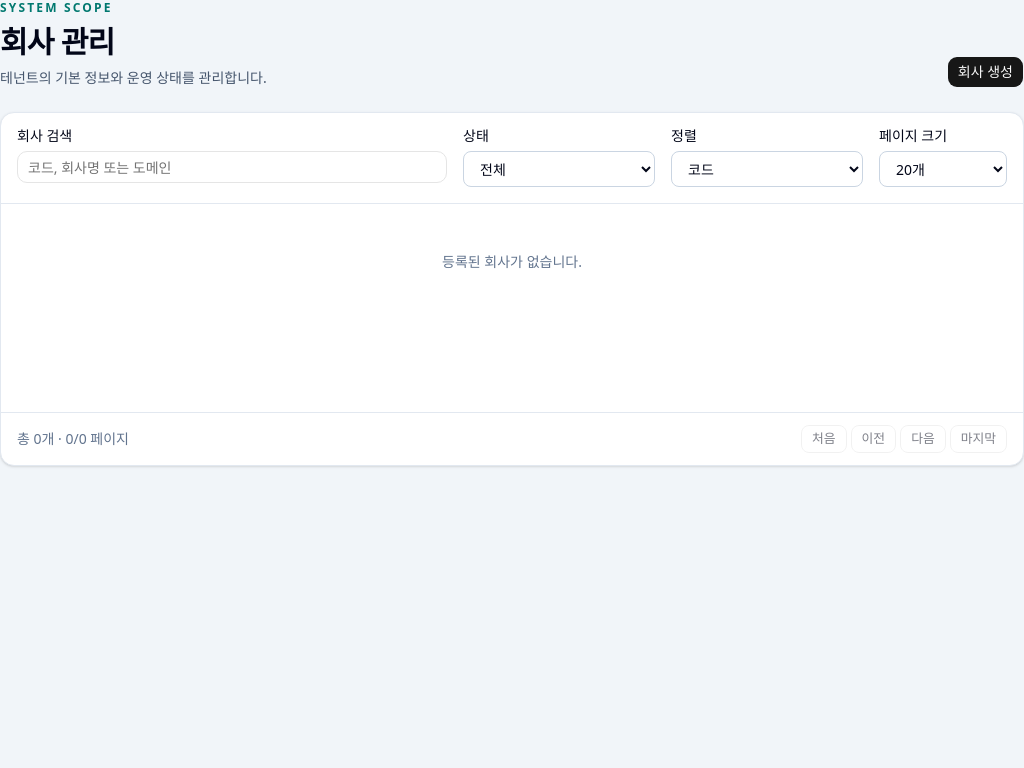
CompanyPage › focuses a 409 field error and exposes its trace id
The width and height of the screenshot is (1024, 768).
Expected: the text "등록된 회사가 없습니다." is shown, [442,252,582,271]
Click the button "회사 생성". click: x=985, y=72
box: [947,56,1023,88]
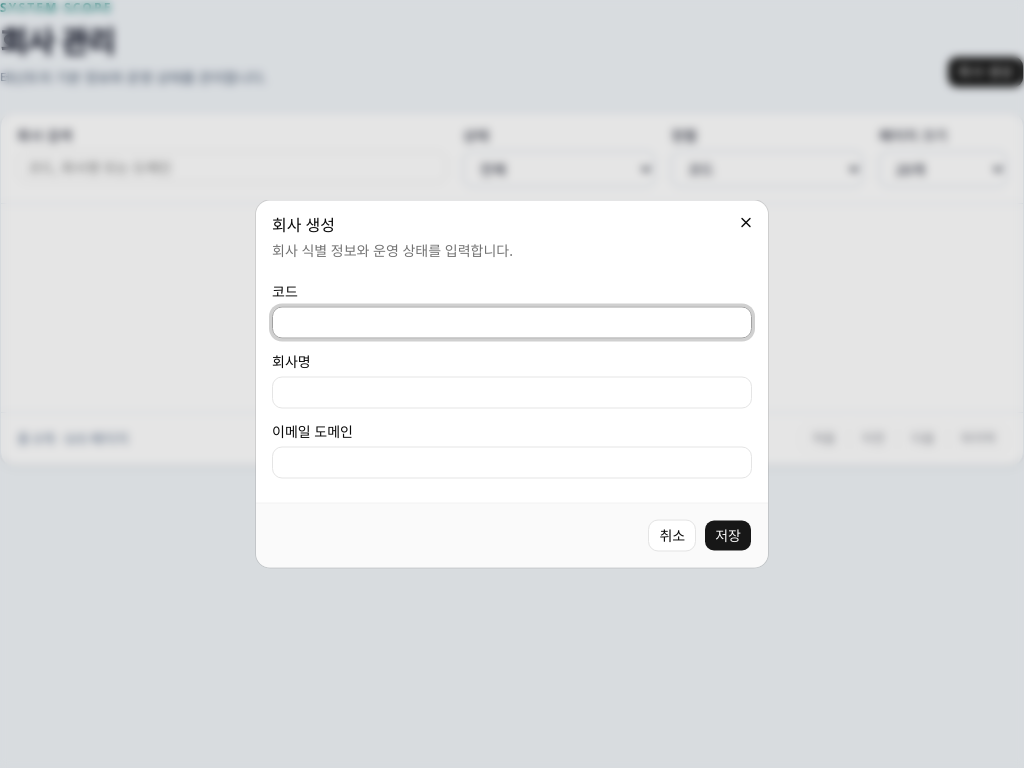
Type "ACME" into the field labelled "코드". click: x=512, y=322
box: [272,306,752,338]
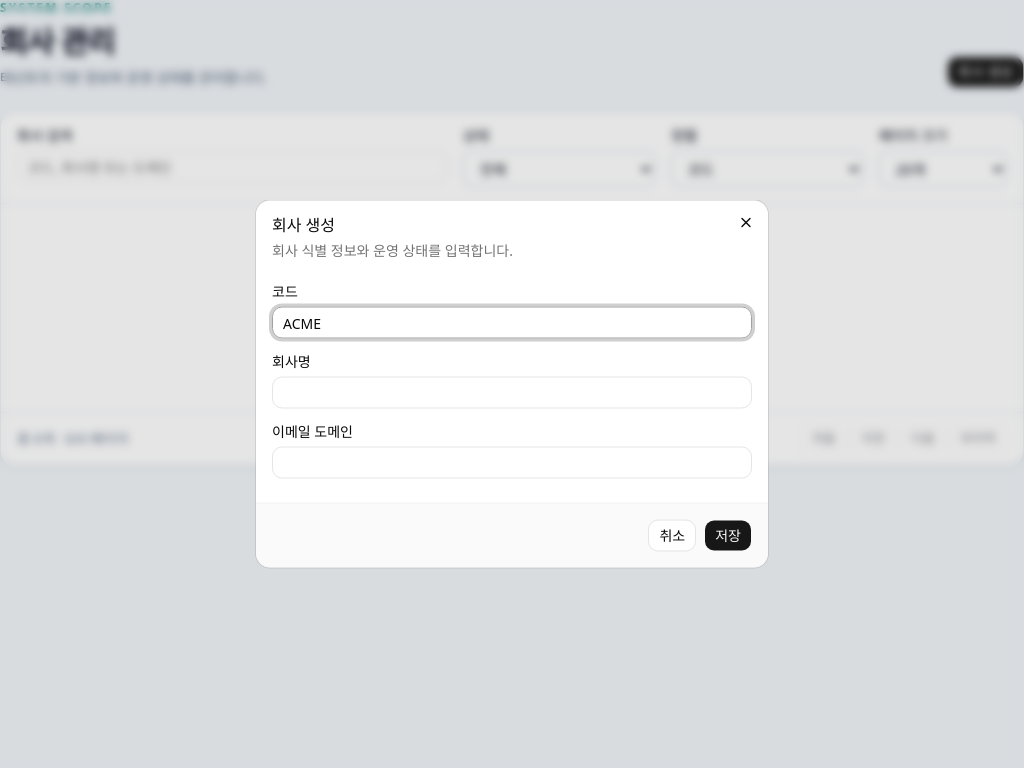
Type "Acme" into the field labelled "회사명". click: x=512, y=392
box: [272,376,752,408]
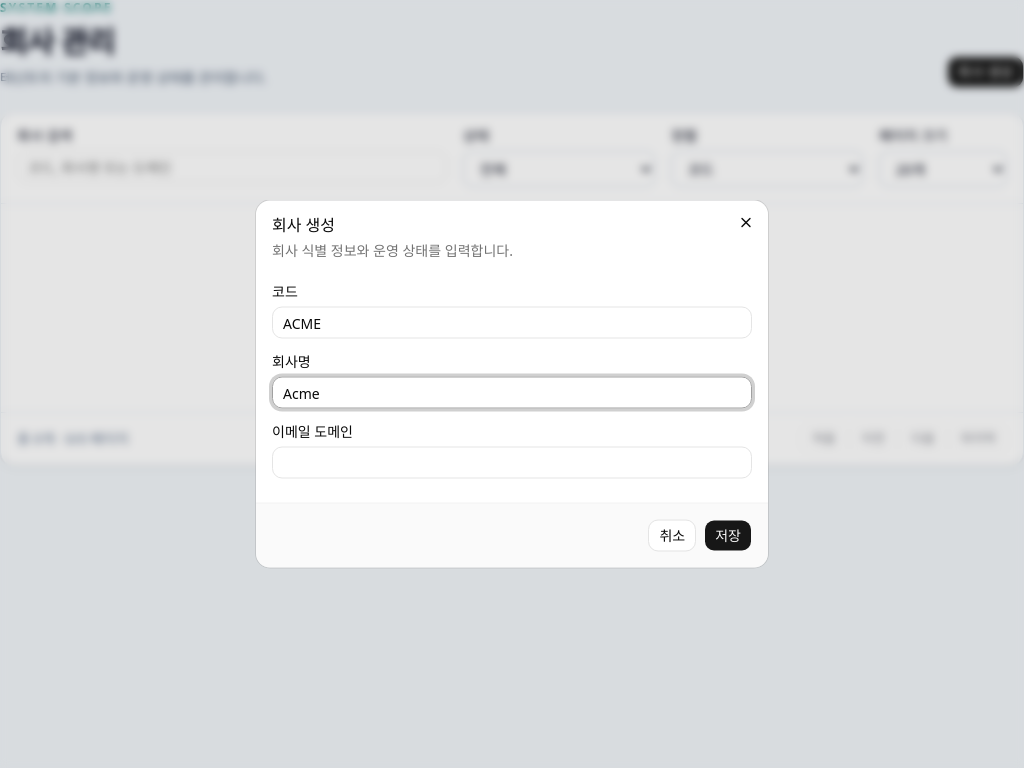
Type "acme.example" into the field labelled "이메일 도메인". click: x=512, y=462
box: [272,446,752,478]
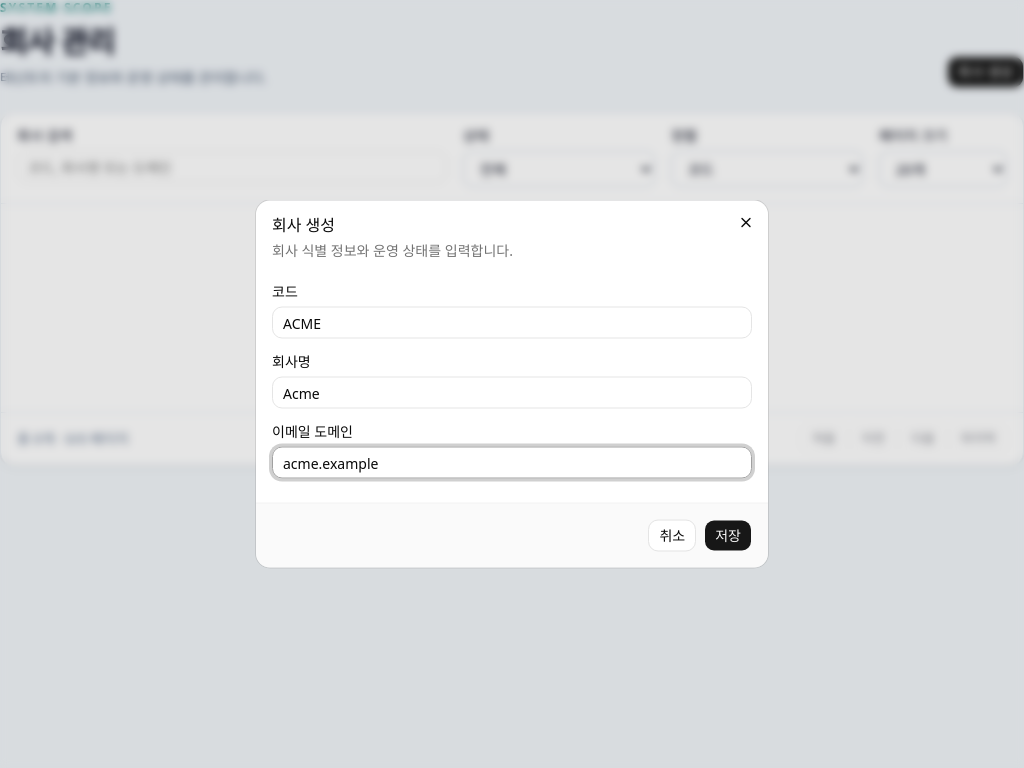
Click the button "저장". click: x=728, y=536
box: [704,520,752,552]
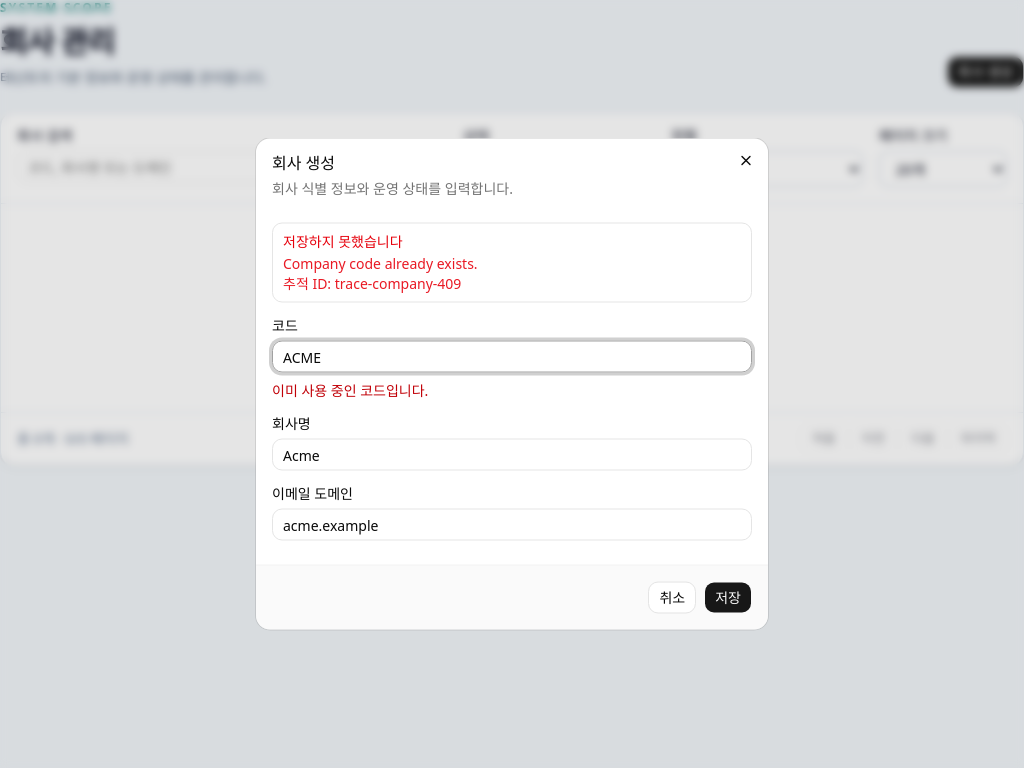
Result: the text "이미 사용 중인 코드입니다." is shown at [272,380,428,400]
Result: the text "추적 ID: trace-company-409" is shown at [283,274,461,292]
